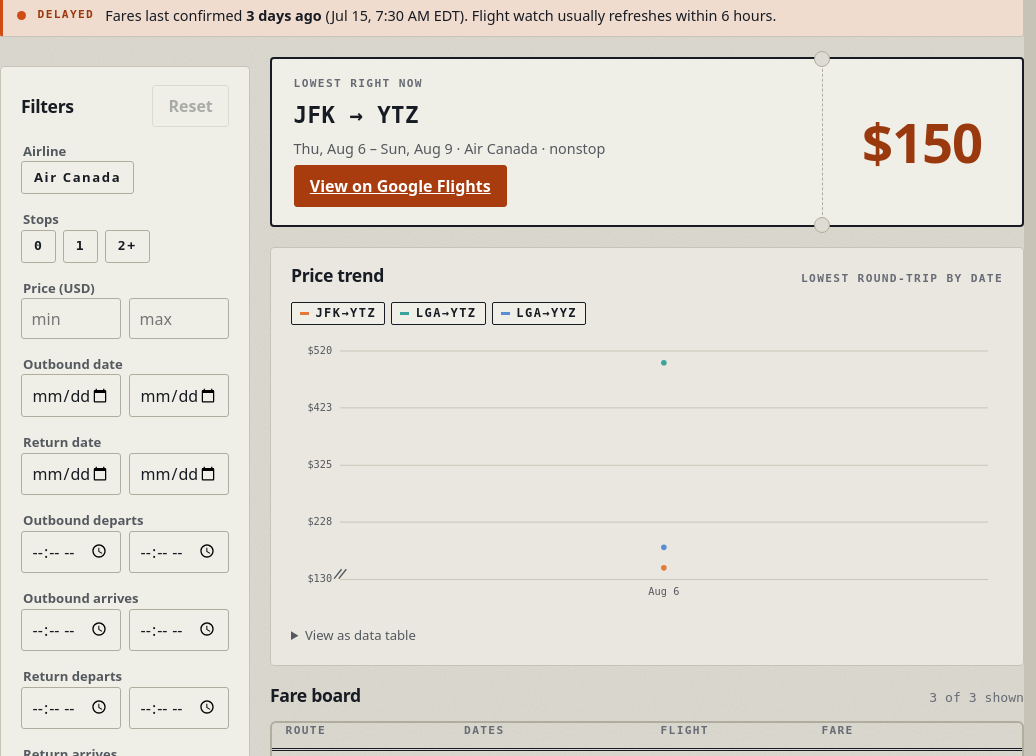
Test: Dashboard fetch resilience › (f) an active filter matching nothing shows a Clear filters button that restores the rows
Check: the heading "Fare board" is shown, box x1=270 y1=686 x2=361 y2=704
a max price below every fare on the board excludes all rows
Type "1" into the number field named "maximum price" at [179, 319], box x1=129 y1=299 x2=229 y2=339
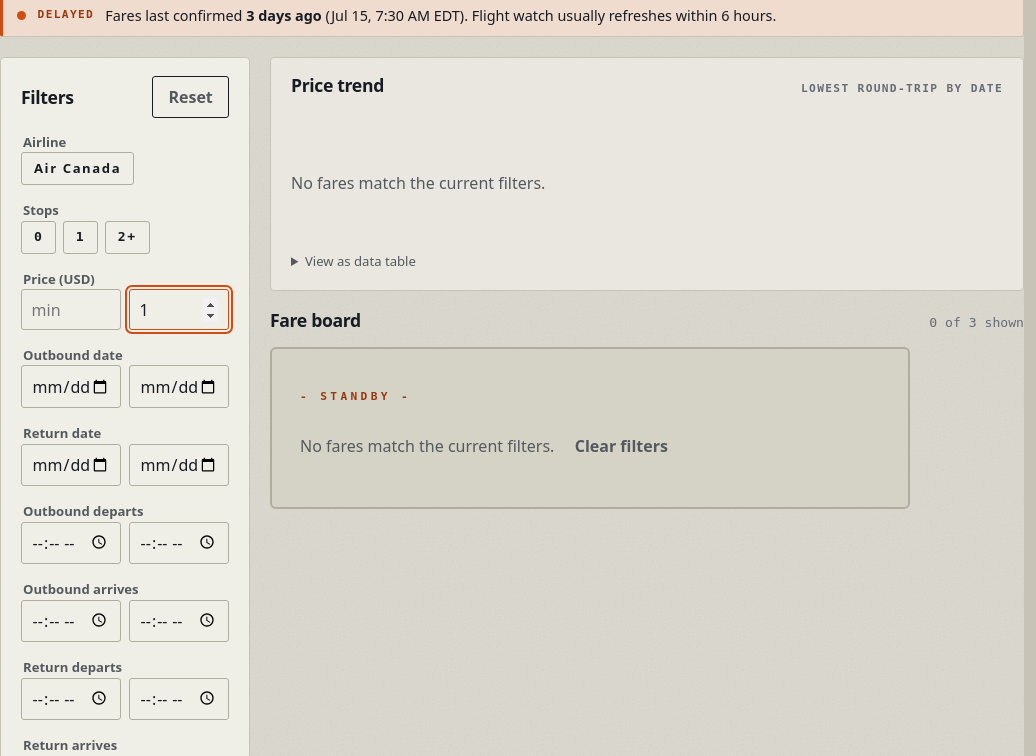
Check: the text "No fares match the current filters. Clear filters" is shown, box x1=300 y1=406 x2=721 y2=467
Click the button "Clear filters" at [621, 446], box x1=558 y1=425 x2=684 y2=467
(page scrolled)
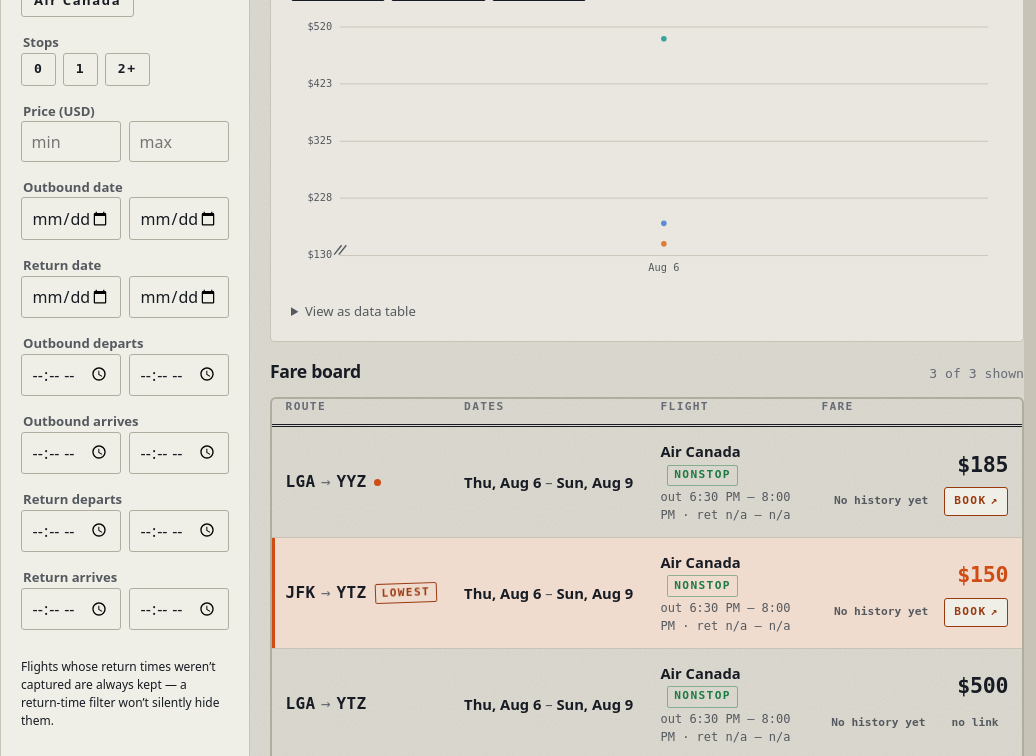
Check: the text "$150" is shown, box x1=957 y1=562 x2=1008 y2=588
Check: the text "No fares match" is gone
